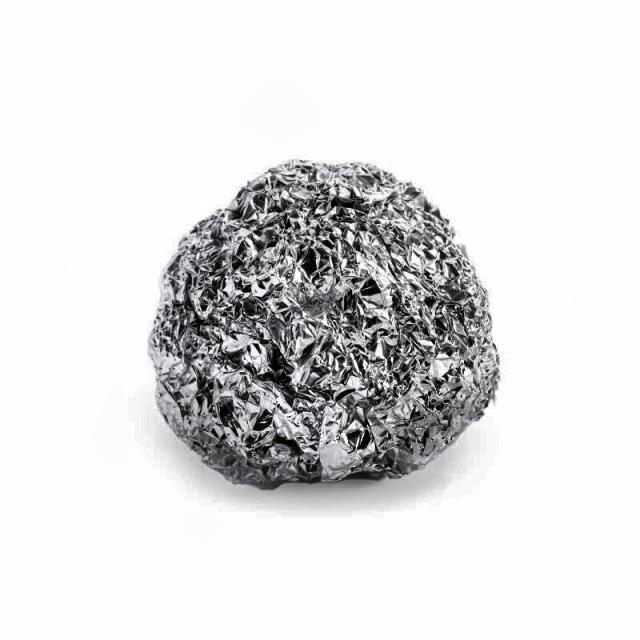Foil: (100, 140, 527, 520)
